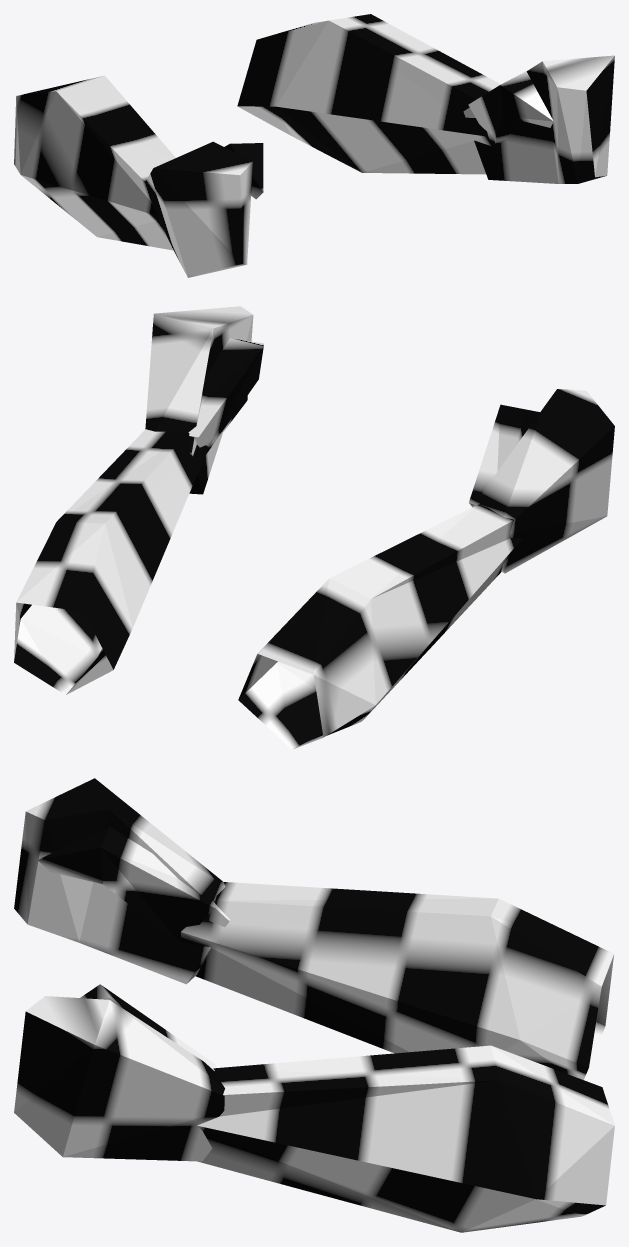
The model's file is initargl9.dae.
3 views of the same model, one above another, from view 1: azimuth 30°, elevation 25°; view 2: azimuth 150°, elevation 25°; view 3: azimuth 270°, elevation 25° (orthographic). The views are drawn at different scales.
Visible parts, largest first — view 1: armor; view 2: armor; view 3: armor.
Boxes of the visible parts, box(x1,y1,x2,y2) form: armor: box(14, 14, 614, 277); armor: box(14, 306, 614, 749); armor: box(14, 778, 614, 1232).
Size of the model in its own units: 1.64 by 1.56 by 0.7226.
Materials: 1 (1 with a texture image).
